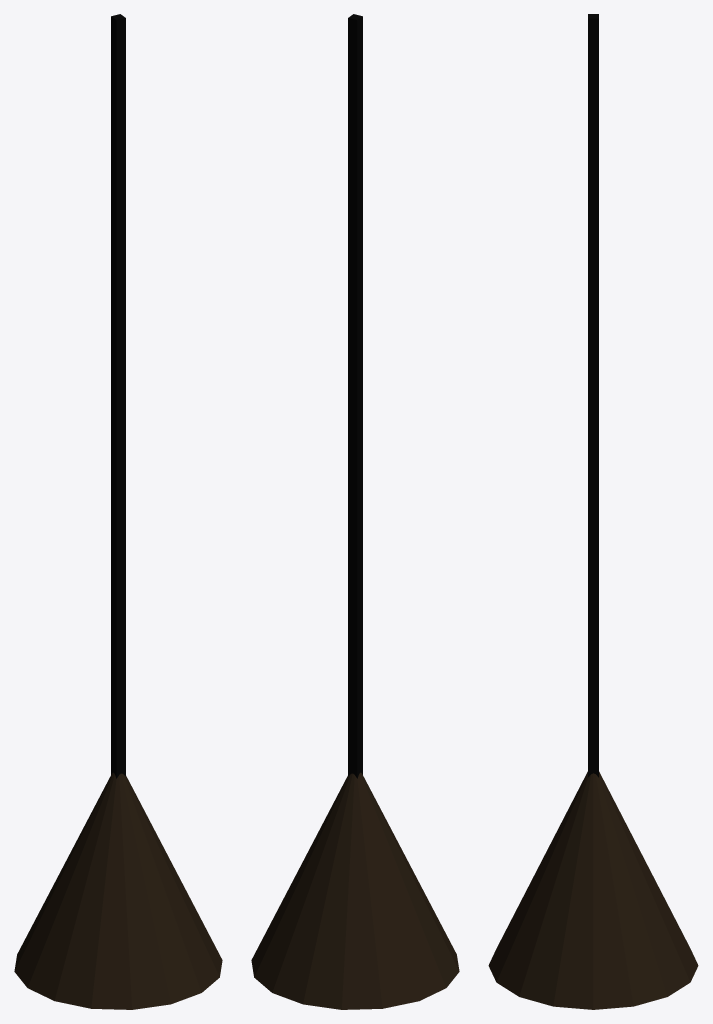
The model's file is Lamp.obj.
3 views of the same model, side by side, from view 1: azimuth 30°, elevation 25°; view 2: azimuth 150°, elevation 25°; view 3: azimuth 270°, elevation 25° (orthographic).
Parts seen in each view (by area): view 1: Cone, Cube; view 2: Cone, Cube; view 3: Cone, Cube.
Part boxes in pixels (x1,y1,x2,y2): Cone: (14,772,222,1009); Cube: (111,14,125,778); Cone: (251,772,459,1009); Cube: (348,14,362,778); Cone: (488,771,698,1009); Cube: (588,14,598,777).
Bounding box in the file's own units: 8.62 × 42.99 × 8.62.
